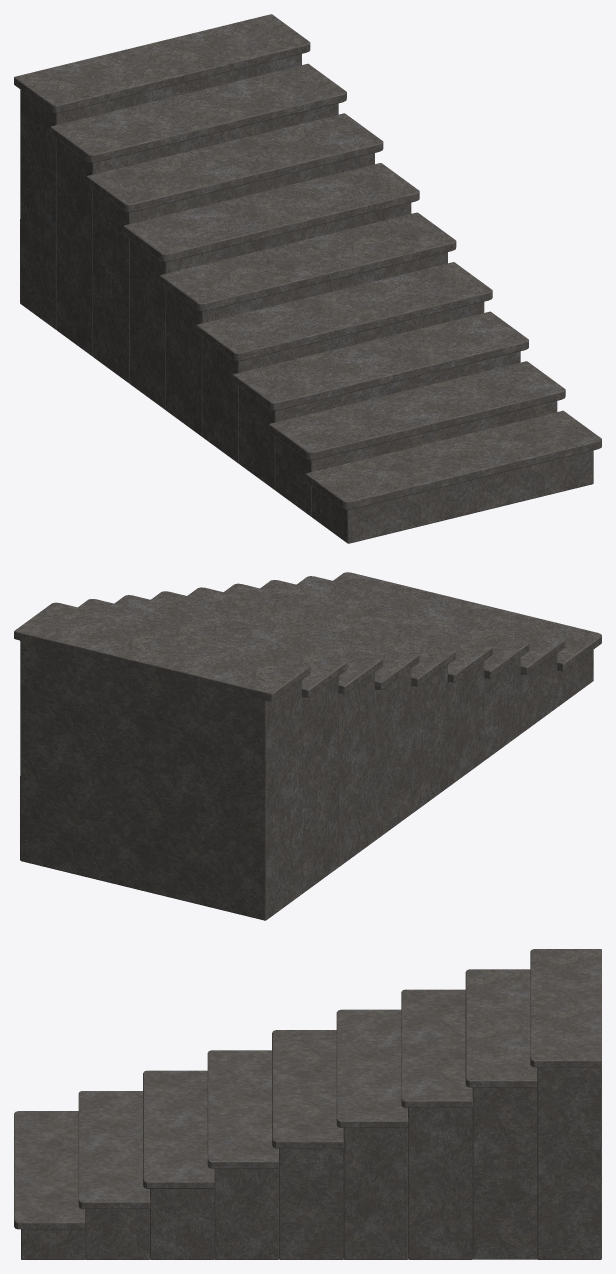
Rendered from StoneSteps.fbx.
The picture shows the model from 3 angles, top to bottom: view 1: azimuth 30°, elevation 25°; view 2: azimuth 150°, elevation 25°; view 3: azimuth 270°, elevation 25°; orthographic projection. The views are drawn at different scales.
Visible parts, largest first — view 1: Stone Steps; view 2: Stone Steps; view 3: Stone Steps.
Boxes of the visible parts, left/top/right/bottom form: Stone Steps: left=14, top=14, right=601, bottom=543; Stone Steps: left=14, top=572, right=601, bottom=920; Stone Steps: left=14, top=949, right=601, bottom=1259.
Size of the model in its own units: 319 by 270 by 710.
